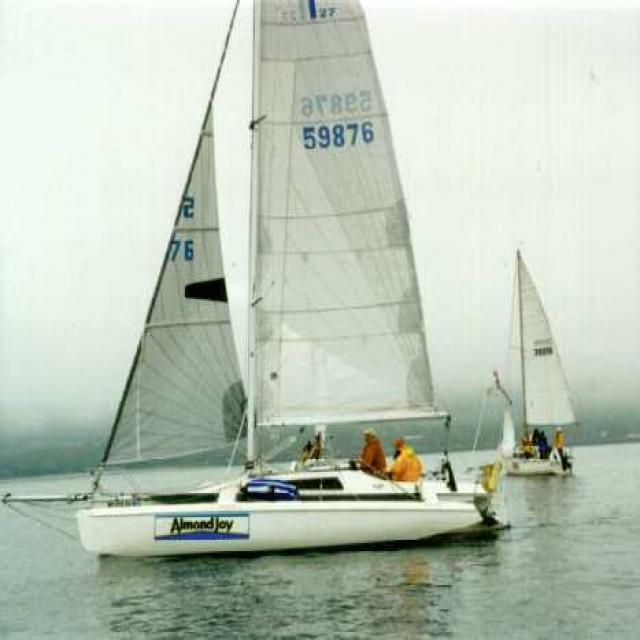Ship: (73, 11, 503, 546), (503, 237, 580, 487)
